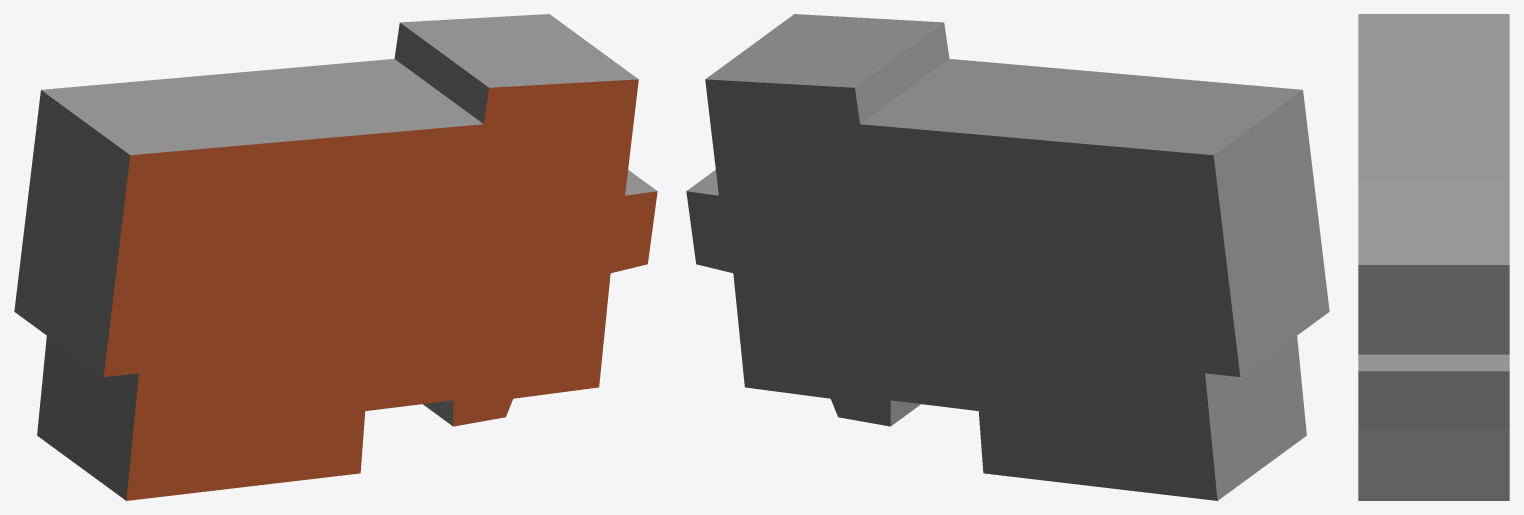
File: construction_7239_assumed_A_Ruinas_h6m.obj
The picture shows the model from 3 angles, left to right: view 1: azimuth 30°, elevation 25°; view 2: azimuth 150°, elevation 25°; view 3: azimuth 270°, elevation 25°; orthographic projection. The views are drawn at different scales.
Visible parts, largest first — view 1: construction_7239_assumed_A_Ruinas; view 2: construction_7239_assumed_A_Ruinas; view 3: construction_7239_assumed_A_Ruinas.
Part boxes in pixels (bbox=[...]): construction_7239_assumed_A_Ruinas: bbox=[14, 14, 657, 500]; construction_7239_assumed_A_Ruinas: bbox=[686, 14, 1329, 500]; construction_7239_assumed_A_Ruinas: bbox=[1358, 14, 1509, 500].
Size of the model in its own units: 21.48 by 13.87 by 6.
